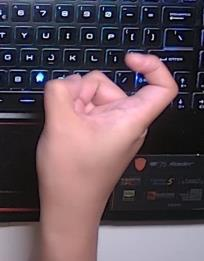anticlockwise: (33, 50, 181, 206)
